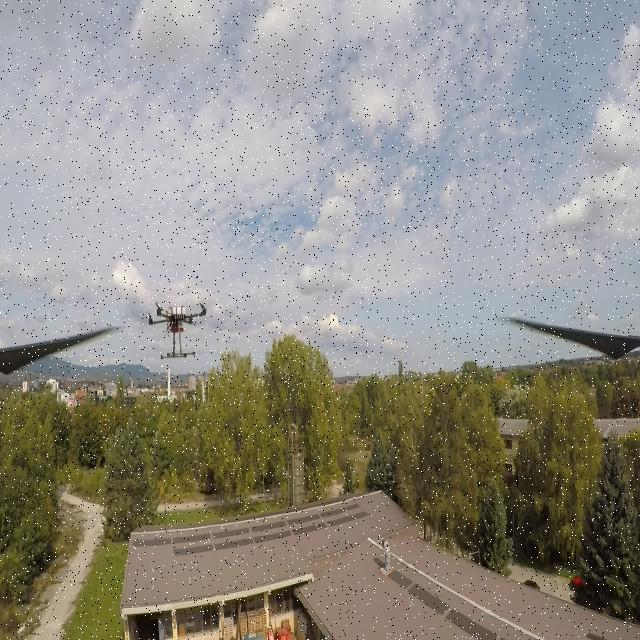UAV: (139, 294, 211, 358)
